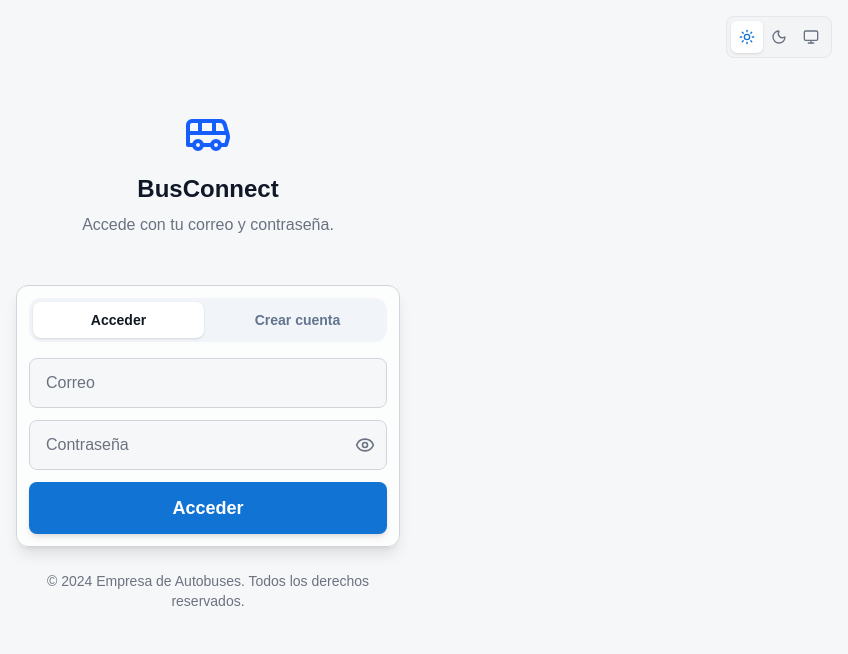
Test: Login Component › cambia a modo registro al hacer click en Crear cuenta
Click the button "Crear cuenta" at (298, 320), box top-left (212, 302), bottom-right (383, 338)
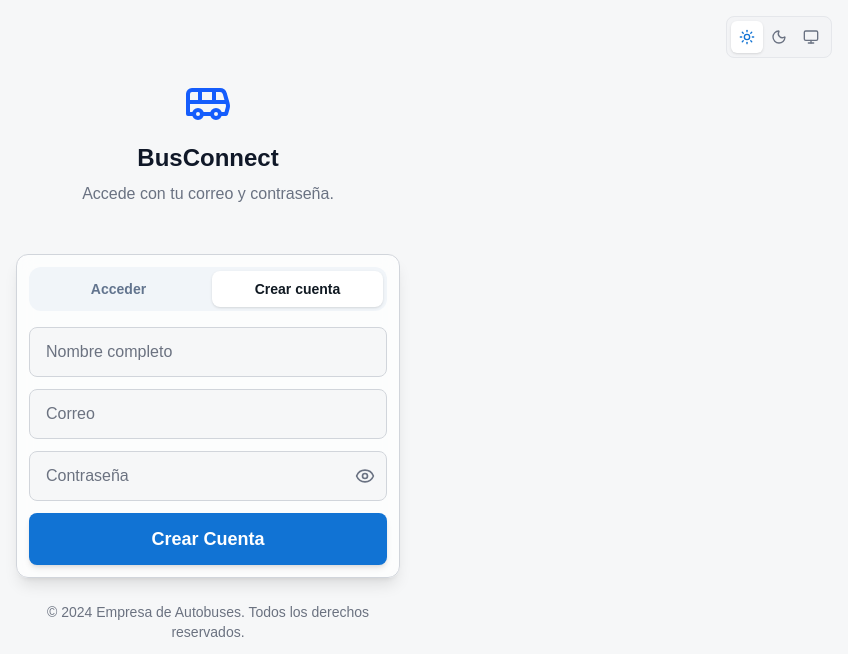
Expected: the field with placeholder "Nombre completo" is shown, top-left (29, 327), bottom-right (387, 377)
Expected: the button "Crear Cuenta" is shown, top-left (29, 513), bottom-right (387, 565)
